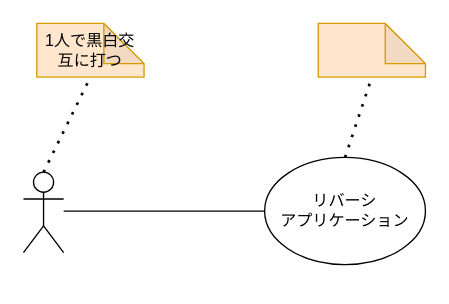
Some shapes in this 449 by 304 pixel diagram are drawn without their labels. Each missing label, with the centre of its shape:
Actor: point (43, 212)
Webアプリ: point (371, 49)
